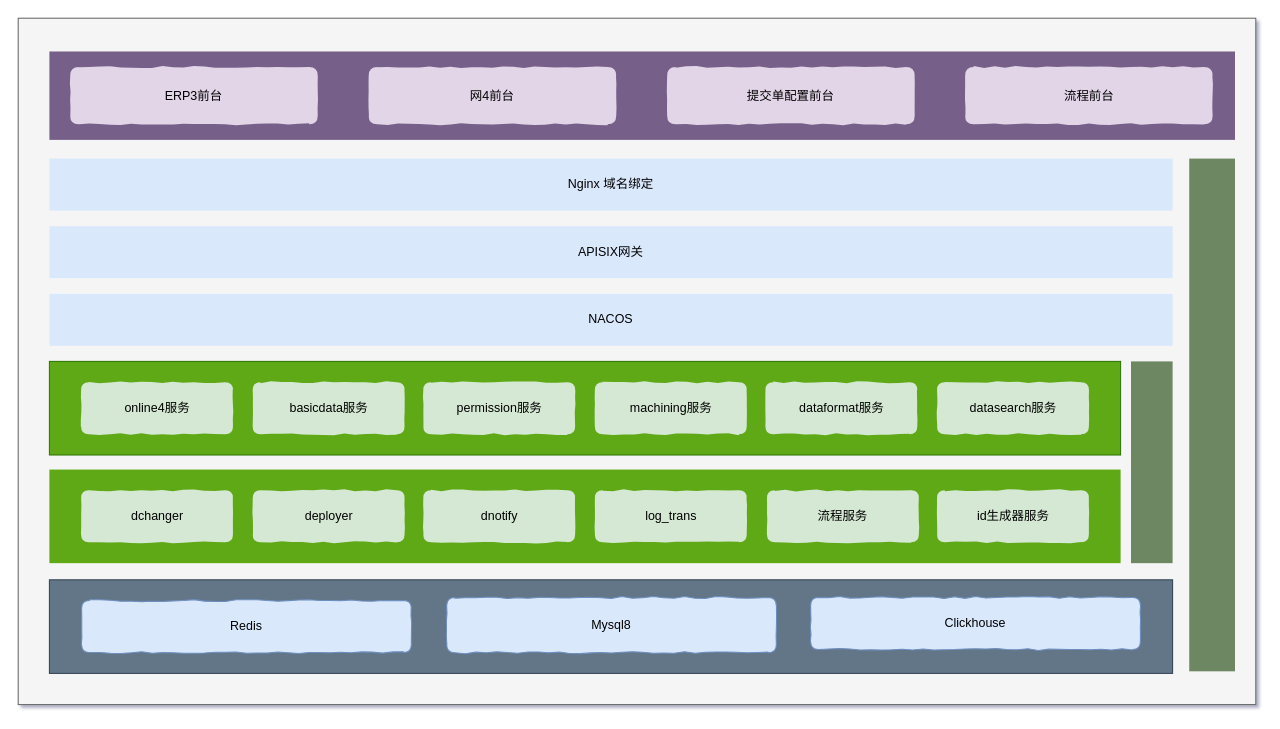
This 1280x729 diagram has some shape labels left out. Each missing label, with the centre of its shape:
Kafka 集群: the point at 1151,462
日 志 收 集: the point at 1211,414
